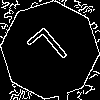L: (25, 25, 76, 79)
